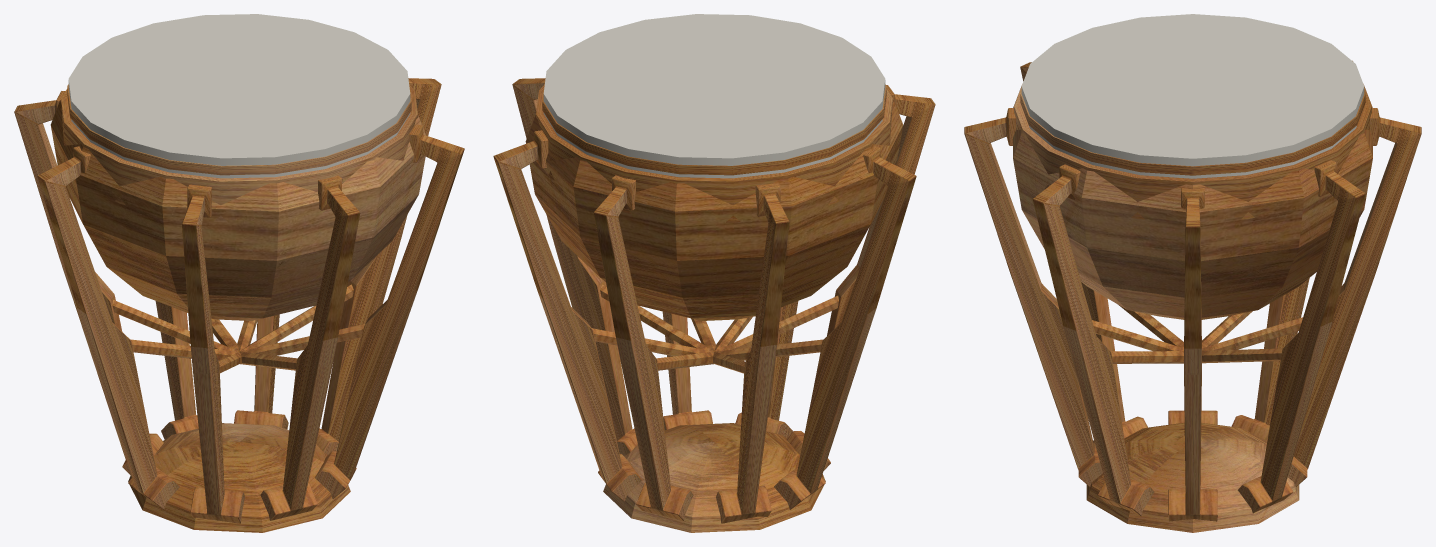
The model's file is Tambores fbx proyecto Tambor 1.fbx.
The picture shows the model from 3 angles, left to right: view 1: azimuth 30°, elevation 25°; view 2: azimuth 150°, elevation 25°; view 3: azimuth 270°, elevation 25°; orthographic projection.
Parts seen in each view (by area): view 1: simpleSetPercussion1:pCylinder1, simpleSetPercussion1:pSphere1, simpleSetPercussion1:pCube3, simpleSetPercussion1:pCube8, simpleSetPercussion1:pSphere2, simpleSetPercussion1:pCube4, simpleSetPercussion1:pCube7, simpleSetPercussion1:pCube1, simpleSetPercussion1:pPipe1, simpleSetPercussion1:pPipe2, simpleSetPercussion1:pCube6, simpleSetPercussion1:pCube2 (+6 smaller); view 2: simpleSetPercussion1:pCylinder1, simpleSetPercussion1:pSphere1, simpleSetPercussion1:pCube3, simpleSetPercussion1:pCube5, simpleSetPercussion1:pSphere2, simpleSetPercussion1:pCube2, simpleSetPercussion1:pCube6, simpleSetPercussion1:pPipe1, simpleSetPercussion1:pCube1, simpleSetPercussion1:pPipe2, simpleSetPercussion1:pCube7, simpleSetPercussion1:pCube8 (+6 smaller); view 3: simpleSetPercussion1:pCylinder1, simpleSetPercussion1:pSphere1, simpleSetPercussion1:pSphere2, simpleSetPercussion1:pCube5, simpleSetPercussion1:pCube8, simpleSetPercussion1:pCube4, simpleSetPercussion1:pCube2, simpleSetPercussion1:pCube1, simpleSetPercussion1:pPipe1, simpleSetPercussion1:pPipe2, simpleSetPercussion1:pCube6, simpleSetPercussion1:pCube7 (+6 smaller).
Part boxes in pixels (bbox=[...]): simpleSetPercussion1:pCylinder1: bbox=[68, 14, 410, 178]; simpleSetPercussion1:pSphere1: bbox=[50, 100, 425, 320]; simpleSetPercussion1:pCube3: bbox=[37, 146, 179, 509]; simpleSetPercussion1:pCube8: bbox=[315, 124, 464, 498]; simpleSetPercussion1:pSphere2: bbox=[128, 423, 350, 532]; simpleSetPercussion1:pCube4: bbox=[260, 175, 360, 520]; simpleSetPercussion1:pCube7: bbox=[182, 184, 244, 523]; simpleSetPercussion1:pCube1: bbox=[316, 78, 441, 454]; simpleSetPercussion1:pPipe1: bbox=[61, 85, 417, 222]; simpleSetPercussion1:pPipe2: bbox=[67, 78, 411, 175]; simpleSetPercussion1:pCube6: bbox=[14, 91, 163, 476]; simpleSetPercussion1:pCube2: bbox=[155, 301, 198, 439]; simpleSetPercussion1:pCylinder1: bbox=[543, 14, 885, 178]; simpleSetPercussion1:pSphere1: bbox=[525, 100, 903, 320]; simpleSetPercussion1:pCube3: bbox=[774, 146, 916, 509]; simpleSetPercussion1:pCube5: bbox=[493, 130, 642, 501]; simpleSetPercussion1:pSphere2: bbox=[603, 423, 825, 532]; simpleSetPercussion1:pCube2: bbox=[593, 175, 693, 520]; simpleSetPercussion1:pCube6: bbox=[716, 183, 789, 523]; simpleSetPercussion1:pPipe1: bbox=[536, 85, 892, 222]; simpleSetPercussion1:pCube1: bbox=[512, 78, 637, 455]; simpleSetPercussion1:pPipe2: bbox=[542, 78, 886, 175]; simpleSetPercussion1:pCube7: bbox=[787, 85, 935, 470]; simpleSetPercussion1:pCube8: bbox=[662, 311, 712, 429]; simpleSetPercussion1:pCylinder1: bbox=[1021, 14, 1364, 178]; simpleSetPercussion1:pSphere1: bbox=[1013, 86, 1372, 319]; simpleSetPercussion1:pSphere2: bbox=[1086, 422, 1299, 532]; simpleSetPercussion1:pCube5: bbox=[1237, 160, 1365, 513]; simpleSetPercussion1:pCube8: bbox=[1032, 164, 1154, 515]; simpleSetPercussion1:pCube4: bbox=[964, 108, 1102, 486]; simpleSetPercussion1:pCube2: bbox=[1288, 108, 1421, 486]; simpleSetPercussion1:pCube1: bbox=[1168, 188, 1217, 521]; simpleSetPercussion1:pPipe1: bbox=[1014, 84, 1371, 219]; simpleSetPercussion1:pPipe2: bbox=[1020, 91, 1365, 175]; simpleSetPercussion1:pCube6: bbox=[1231, 60, 1352, 440]; simpleSetPercussion1:pCube7: bbox=[1020, 62, 1147, 442].
Bounding box in the file's own units: 8.9 × 8.58 × 8.9.
Materials: 3 (2 with a texture image).
